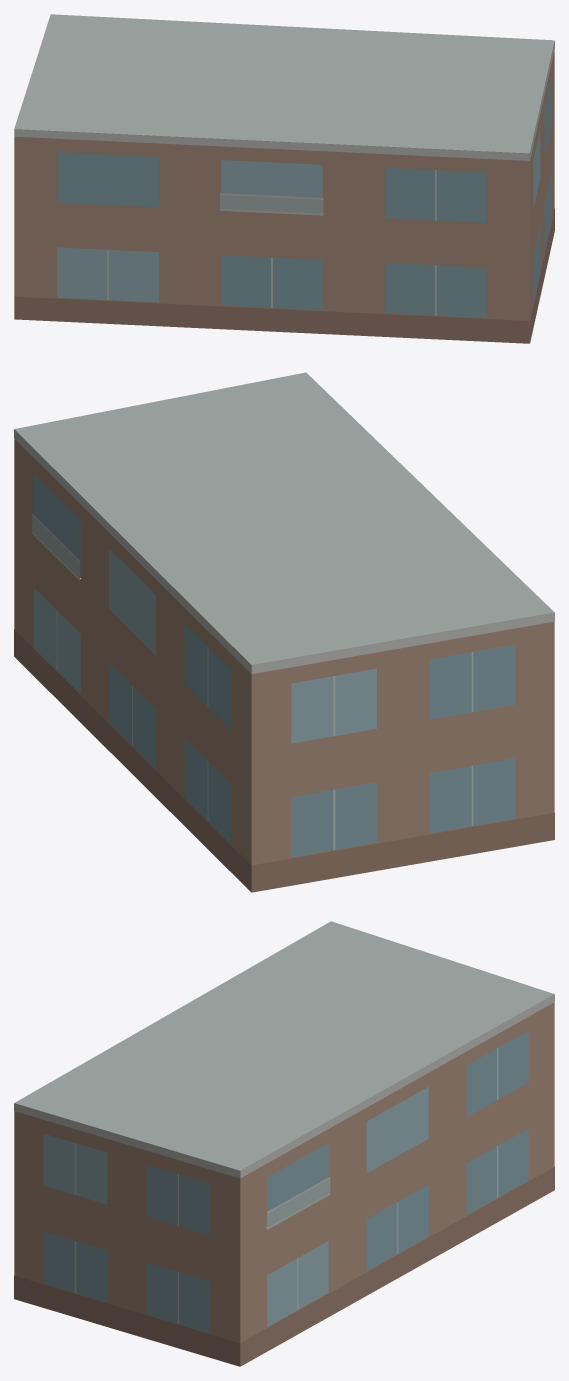
Rendered from survey-upis-32595513.glb.
The picture shows the model from 3 angles, top to bottom: view 1: azimuth 30°, elevation 25°; view 2: azimuth 150°, elevation 25°; view 3: azimuth 270°, elevation 25°; orthographic projection. The views are drawn at different scales.
Parts seen in each view (by area): view 1: survey-upis-32595513.tmp; view 2: survey-upis-32595513.tmp; view 3: survey-upis-32595513.tmp.
Boxes of the visible parts, x1=… form: survey-upis-32595513.tmp: x1=14, y1=14, x2=554, y2=343; survey-upis-32595513.tmp: x1=14, y1=372, x2=554, y2=892; survey-upis-32595513.tmp: x1=14, y1=921, x2=554, y2=1366.
Bounding box in the file's own units: 16.67 × 6.1 × 15.26.
